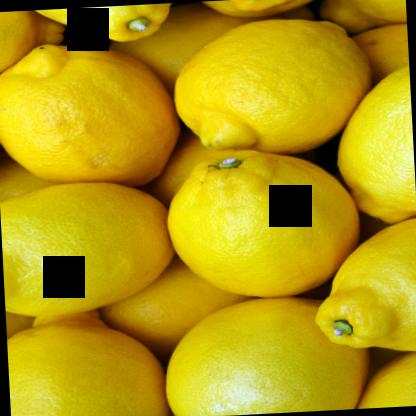lemon: (166, 148, 366, 300), (166, 12, 372, 156), (0, 39, 182, 191), (0, 180, 180, 317), (165, 293, 367, 415), (5, 311, 172, 415), (310, 213, 415, 359), (334, 56, 415, 222)
